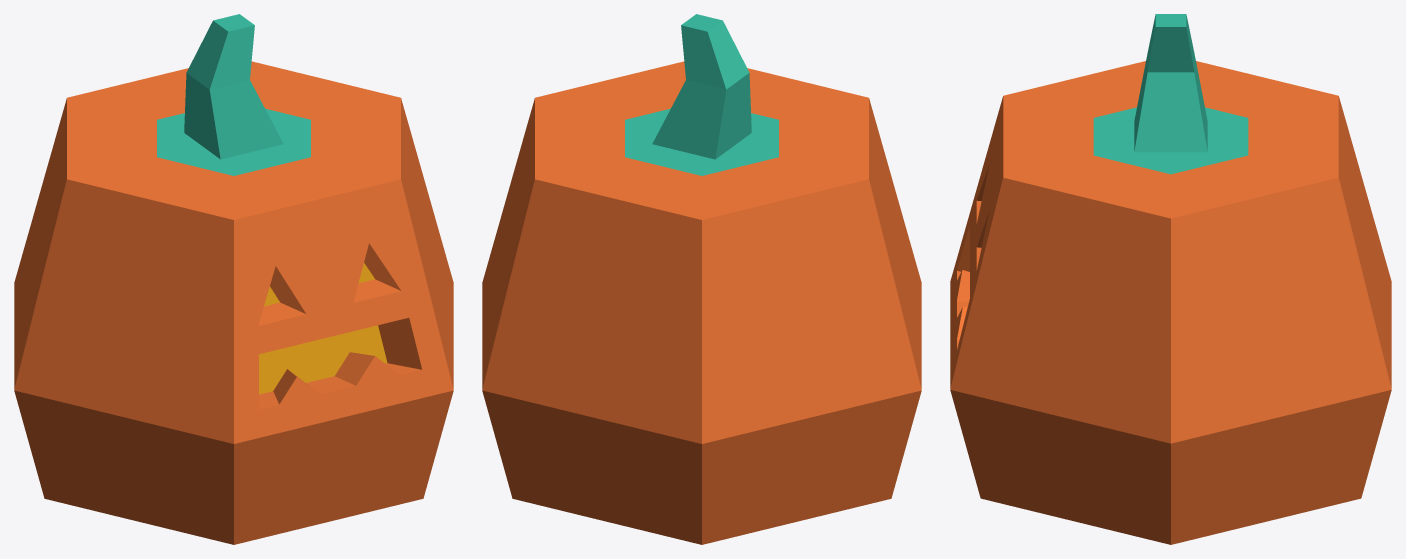
Rendered from pumpkinTallCarved.fbx.
The picture shows the model from 3 angles, left to right: view 1: azimuth 30°, elevation 25°; view 2: azimuth 150°, elevation 25°; view 3: azimuth 270°, elevation 25°; orthographic projection.
Parts seen in each view (by area): view 1: pumpkinTallCarved; view 2: pumpkinTallCarved; view 3: pumpkinTallCarved.
Part boxes in pixels (x1=…): pumpkinTallCarved: x1=14, y1=14, x2=453, y2=544; pumpkinTallCarved: x1=482, y1=14, x2=921, y2=544; pumpkinTallCarved: x1=950, y1=14, x2=1391, y2=544.
Bounding box in the file's own units: 2.78 × 2.6 × 2.41.
